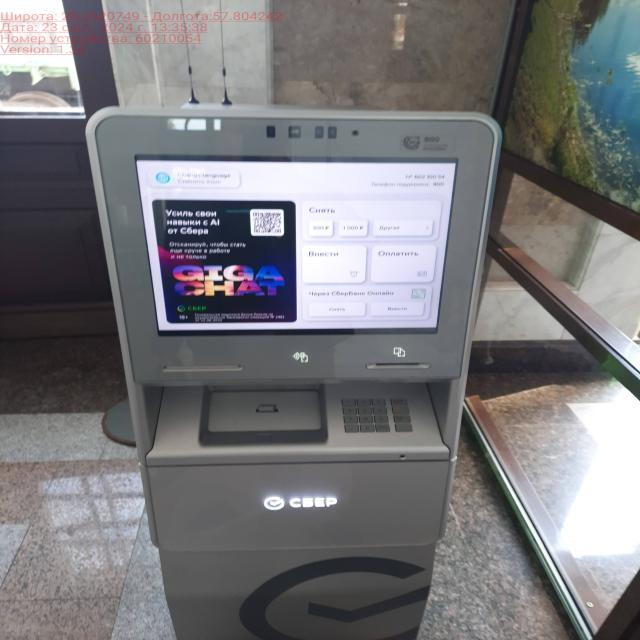bank: (77, 94, 518, 640)
